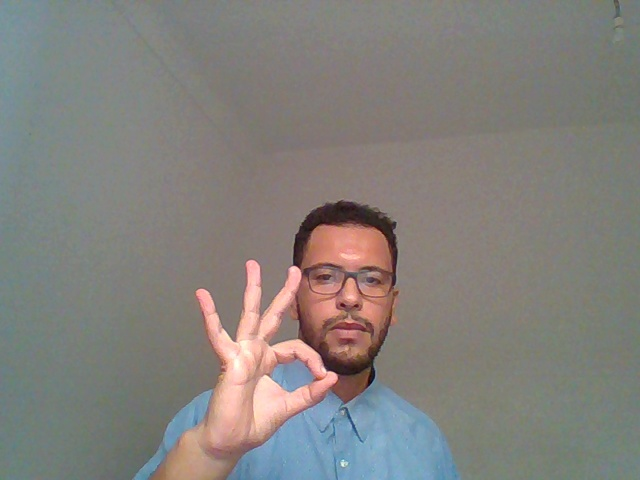okay: (175, 249, 338, 480)
